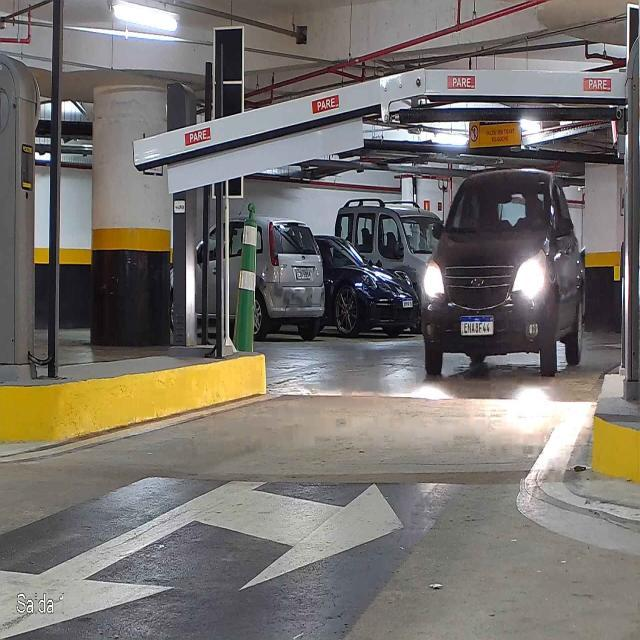mercosul_plate: (459, 314, 496, 338)
